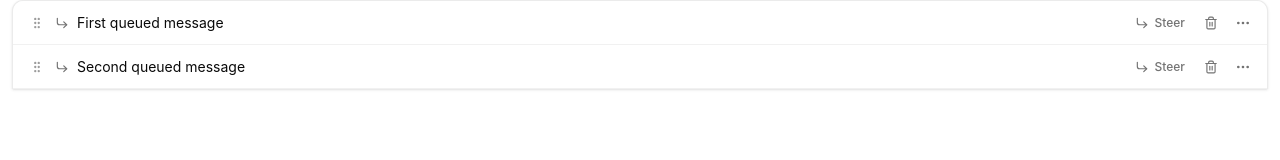
Test: TaskChatQueuedMessages › explains steering_acknowledgement_unknown without claiming the message was delivered
Click the button with test id "task-chat-queued-steer-comment-1": (1160, 22) [1126,8,1193,36]
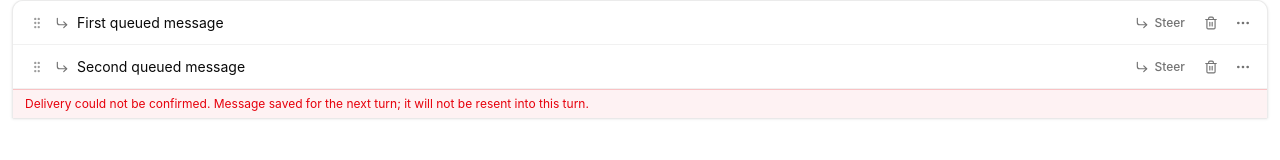
Check: the text "First queued message" is shown, box [77,14,224,30]
Check: the text "will not be resent" is shown, box [25,96,589,111]
